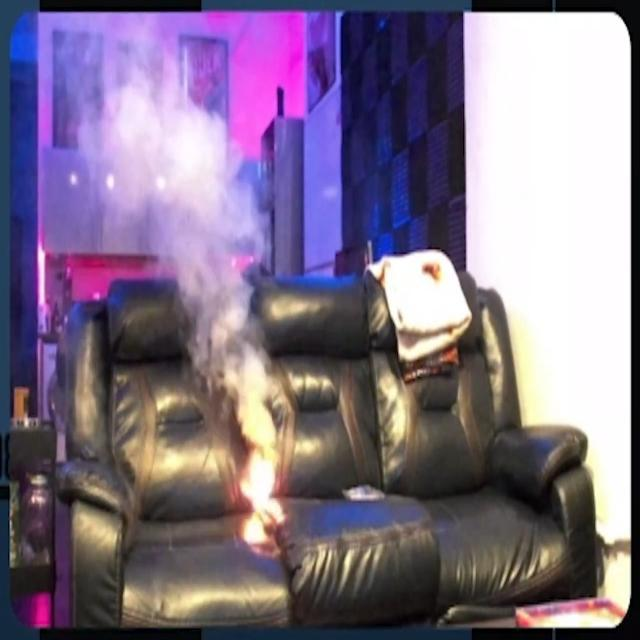Fire: (237, 407, 284, 546)
Smoke: (91, 42, 268, 370)
